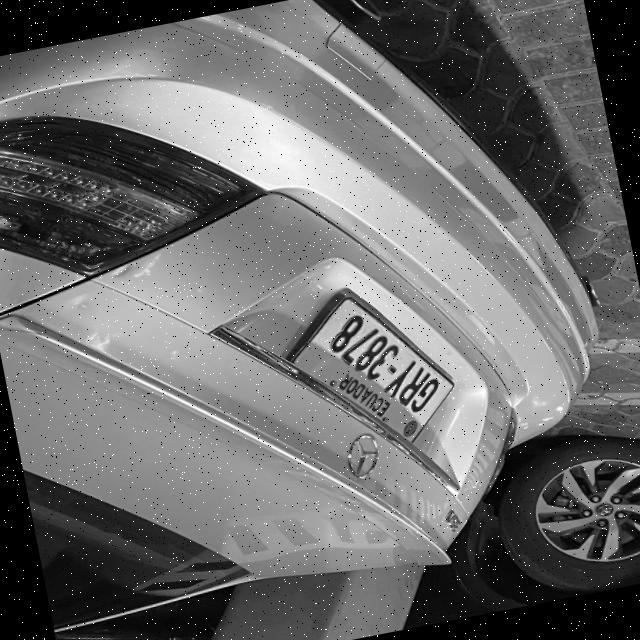Placa: (292, 296, 452, 439)
